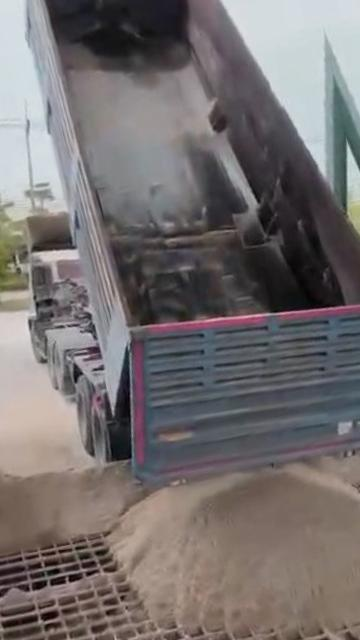sand: (112, 465, 360, 632), (0, 463, 144, 550), (17, 573, 112, 603), (309, 445, 360, 485)
